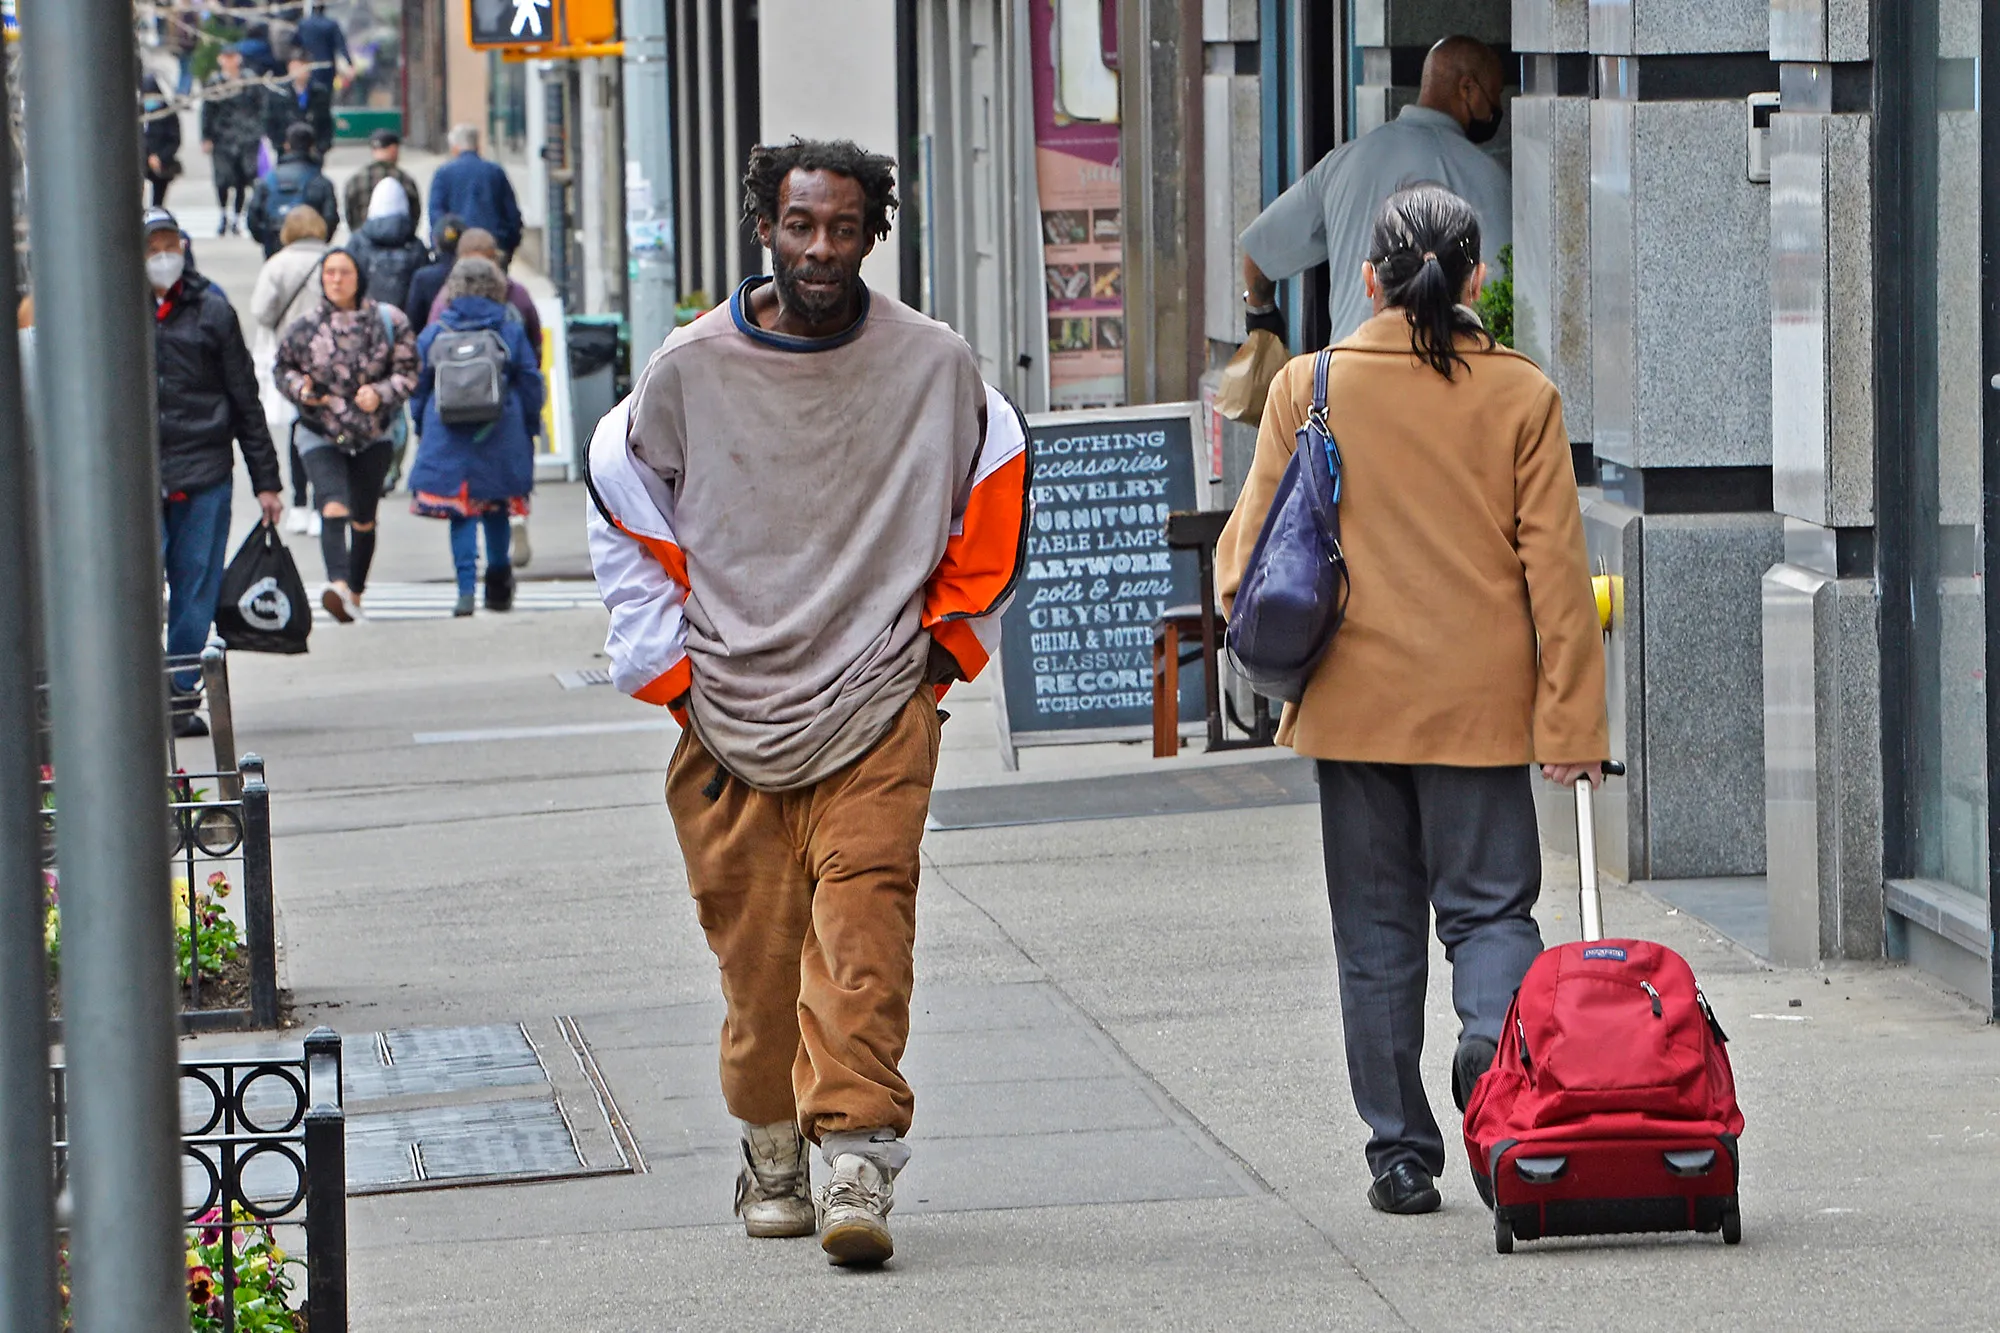person: (580, 133, 1040, 1274), (1215, 185, 1615, 1216), (1228, 28, 1548, 383), (132, 199, 261, 745), (273, 243, 423, 633), (403, 256, 546, 616), (430, 122, 532, 295), (242, 122, 340, 291), (199, 49, 255, 229), (346, 131, 419, 239)
